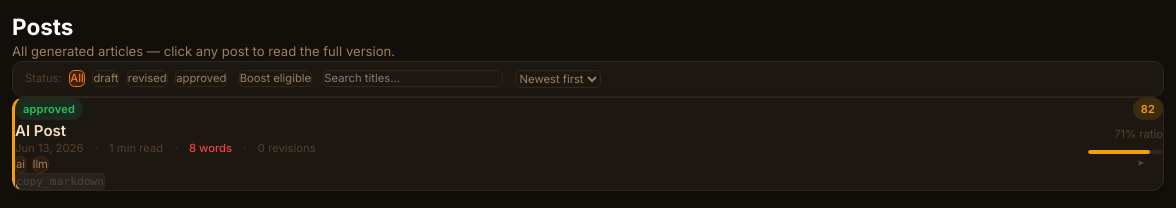
Test: PostsPage › Tag filter › shows active tag chip in the filter bar
Expected: the link with test id "post-card" is shown, left=12, top=97, right=1164, bottom=191
What coordinates should you click on to do the following:
click the button with test id "tag-ai"
I would click on:
 (20, 164)
Its box is left=15, top=156, right=26, bottom=173.
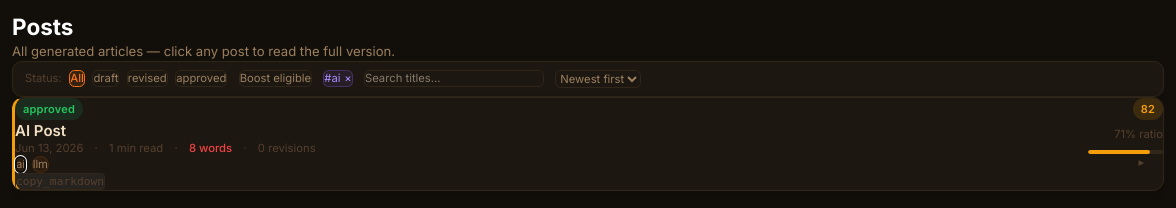
Result: the element with test id "active-tag-filter" is shown at left=323, top=70, right=353, bottom=87
